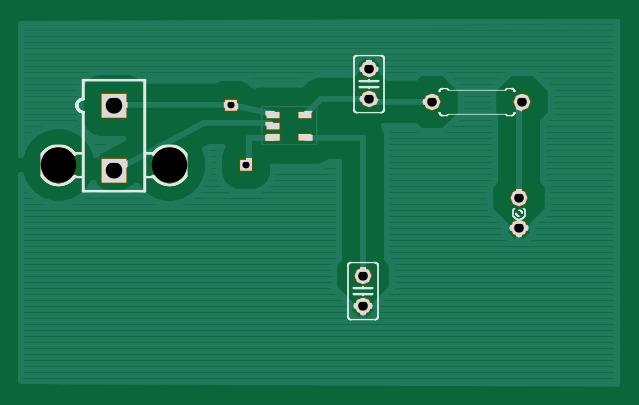LED: (508, 188, 530, 237)
capacitance: (353, 54, 385, 114), (347, 261, 379, 319)
power_supply: (39, 78, 189, 193)
regulation: (263, 108, 316, 144)
resistance: (422, 86, 531, 118)
